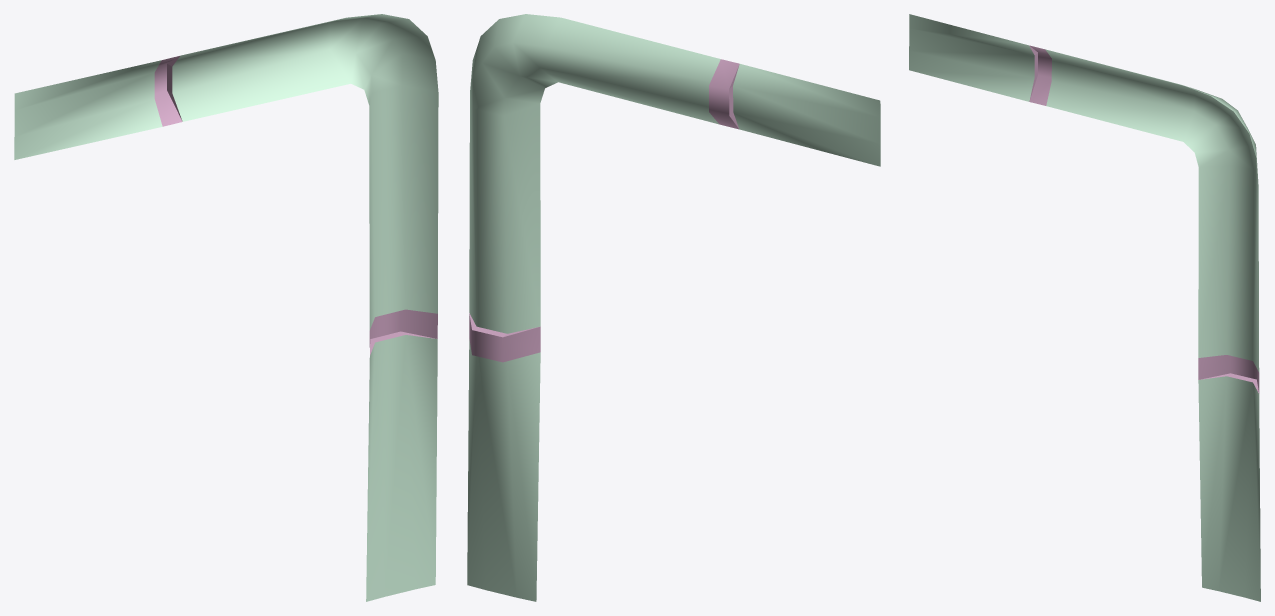
3 renders of one model, left to right at view 1: azimuth 30°, elevation 25°; view 2: azimuth 150°, elevation 25°; view 3: azimuth 330°, elevation 25°, orthographic. The views are drawn at different scales.
Parts seen in each view (by area): view 1: Object22; view 2: Object22; view 3: Object22.
Boxes of the visible parts, <box> form: Object22: <box>14,14,438,601</box>; Object22: <box>467,14,880,601</box>; Object22: <box>909,14,1260,601</box>.
Size of the model in its own units: 107259 by 144815 by 8485.
